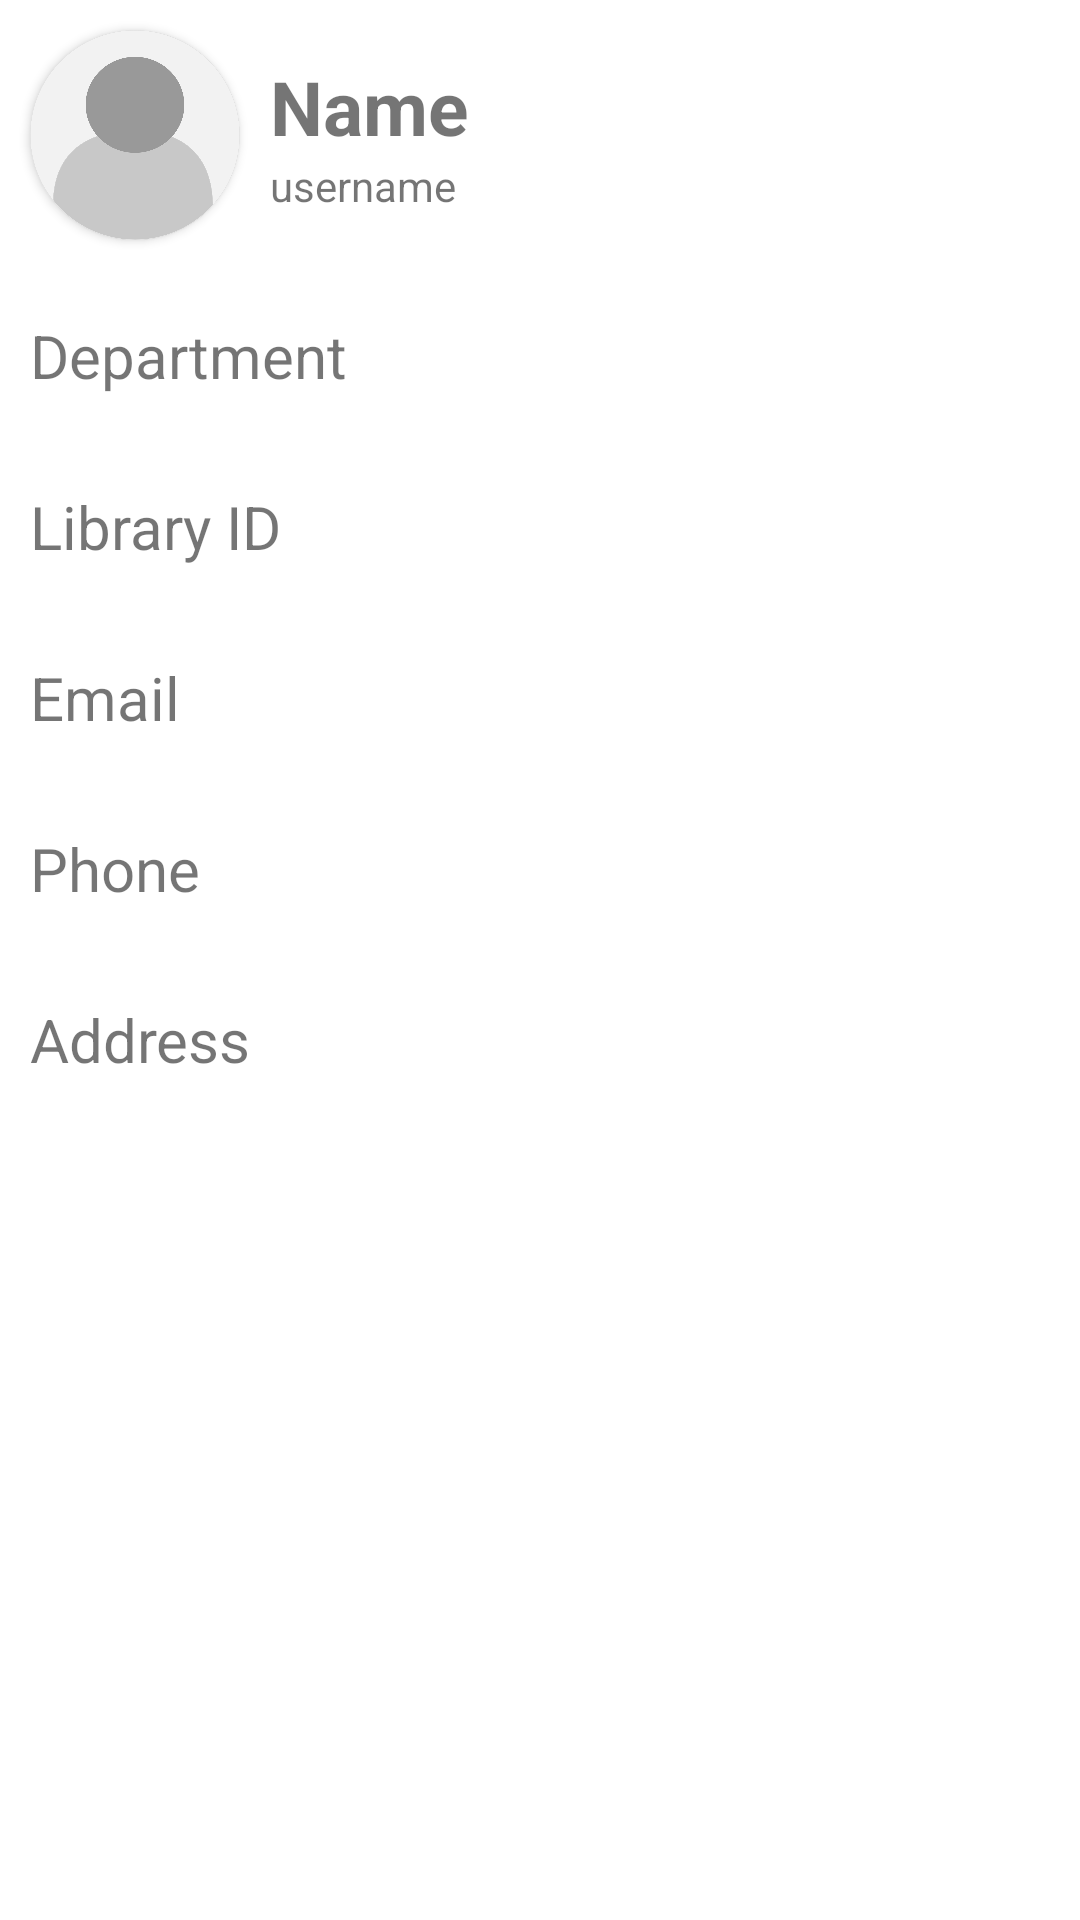

Where to tap for icons on this 1080w x 1920h app screen, as (x=x, y=y):
user pic: (x=135, y=135)
